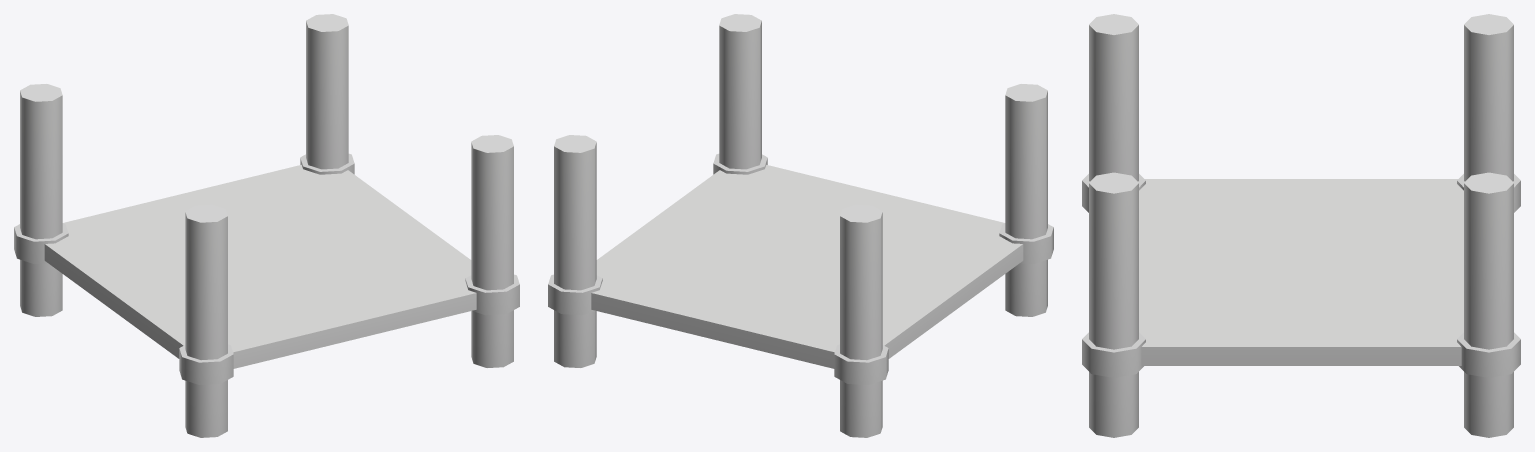
Rendered from Table_Leg_01_S_C02.fbx.
3 renders of one model, left to right at view 1: azimuth 30°, elevation 25°; view 2: azimuth 150°, elevation 25°; view 3: azimuth 270°, elevation 25°, orthographic. The views are drawn at different scales.
Parts seen in each view (by area): view 1: Table_Leg_01_S_C02; view 2: Table_Leg_01_S_C02; view 3: Table_Leg_01_S_C02.
Part boxes in pixels (x1,y1,x2,y2): Table_Leg_01_S_C02: [14, 14, 519, 437]; Table_Leg_01_S_C02: [548, 14, 1053, 437]; Table_Leg_01_S_C02: [1082, 14, 1520, 437].
Size of the model in its own units: 87.78 by 53.91 by 87.78.
